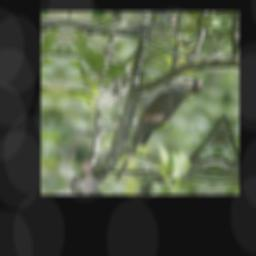Cuckoo: (112, 74, 205, 188)
